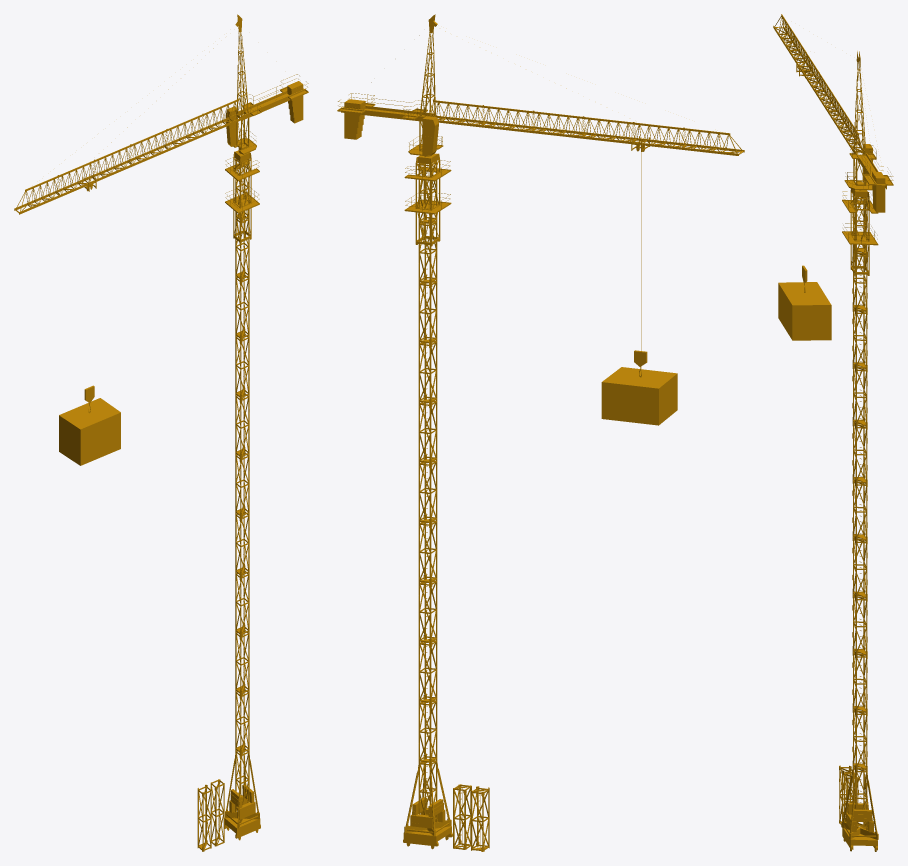
3 views of the same model, side by side, from view 1: azimuth 30°, elevation 25°; view 2: azimuth 150°, elevation 25°; view 3: azimuth 270°, elevation 25° (orthographic). The views are drawn at different scales.
Visible parts, largest first — view 1: polySurface1932; view 2: polySurface1932; view 3: polySurface1932.
Part boxes in pixels (x1,y1,x2,y2): polySurface1932: (14,14,308,851); polySurface1932: (337,14,744,851); polySurface1932: (773,14,893,851).
Bounding box in the file's own units: 523 × 1204 × 165.
